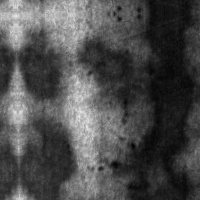patches: (140, 12, 199, 167), (76, 38, 140, 117), (114, 134, 191, 199), (18, 116, 77, 199), (17, 27, 62, 100)
